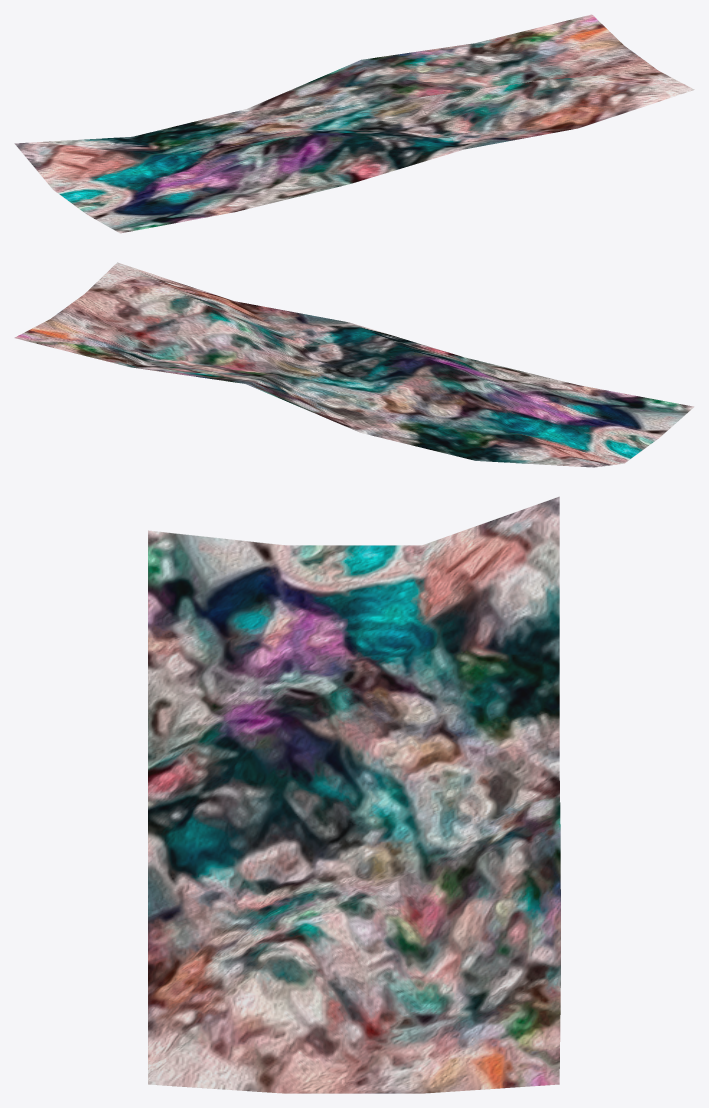
File: Trash_Can_02_Trash.fbx
3 renders of one model, top to bottom at view 1: azimuth 30°, elevation 25°; view 2: azimuth 150°, elevation 25°; view 3: azimuth 270°, elevation 25°, orthographic. The views are drawn at different scales.
Parts seen in each view (by area): view 1: Trash_Can_02_Trash; view 2: Trash_Can_02_Trash; view 3: Trash_Can_02_Trash.
Boxes of the visible parts, x1=… form: Trash_Can_02_Trash: x1=14, y1=14, x2=694, y2=233; Trash_Can_02_Trash: x1=14, y1=262, x2=694, y2=467; Trash_Can_02_Trash: x1=148, y1=496, x2=560, y2=1093.
Bounding box in the file's own units: 152 × 7.36 × 46.92.
